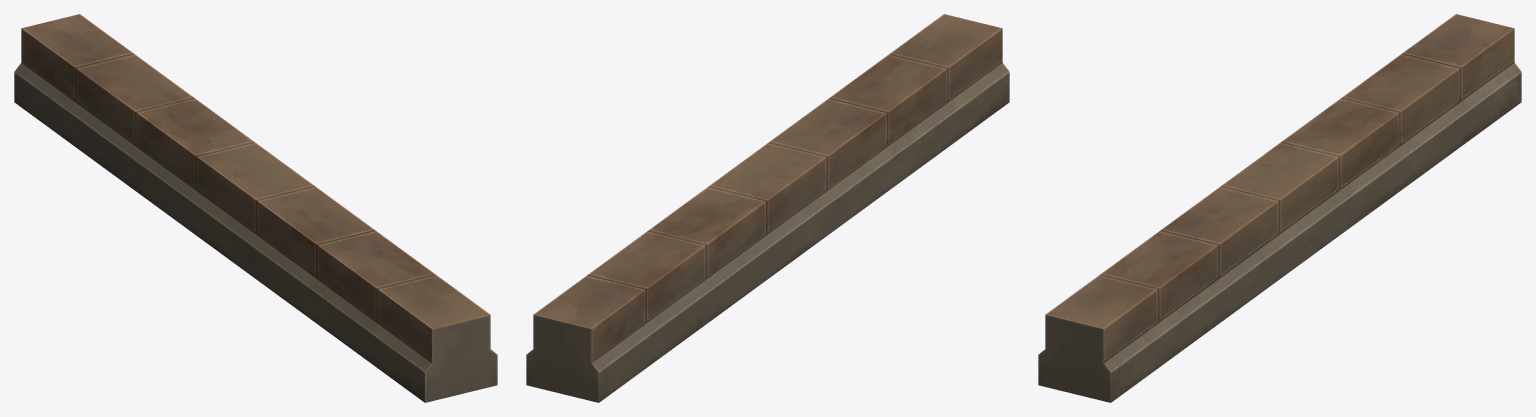
File: bricks_01.fbx
3 views of the same model, side by side, from view 1: azimuth 30°, elevation 25°; view 2: azimuth 150°, elevation 25°; view 3: azimuth 330°, elevation 25° (orthographic).
Parts seen in each view (by area): view 1: bricks_01; view 2: bricks_01; view 3: bricks_01.
Part boxes in pixels (x1=…): bricks_01: x1=14, y1=14, x2=497, y2=402; bricks_01: x1=526, y1=14, x2=1009, y2=402; bricks_01: x1=1038, y1=14, x2=1521, y2=402.
Size of the model in its own units: 25.99 by 24.67 by 254.
